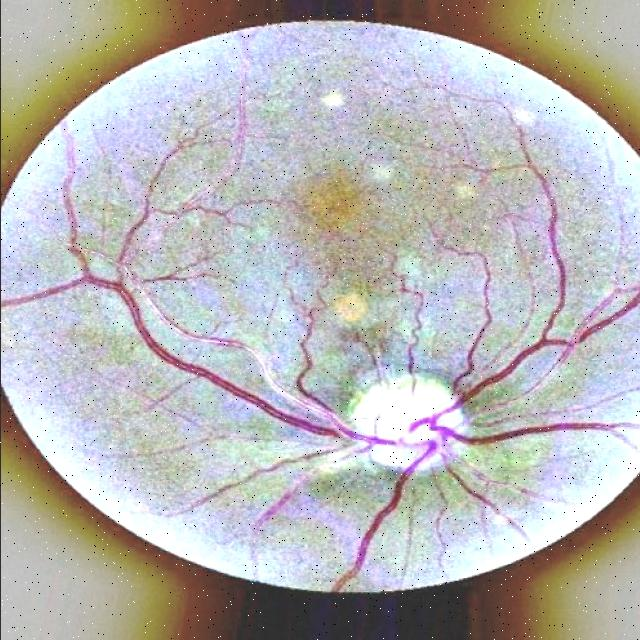Macula: (285, 158, 370, 254)
Nerves: (46, 122, 635, 586)
Optic Disk: (328, 342, 486, 514)
